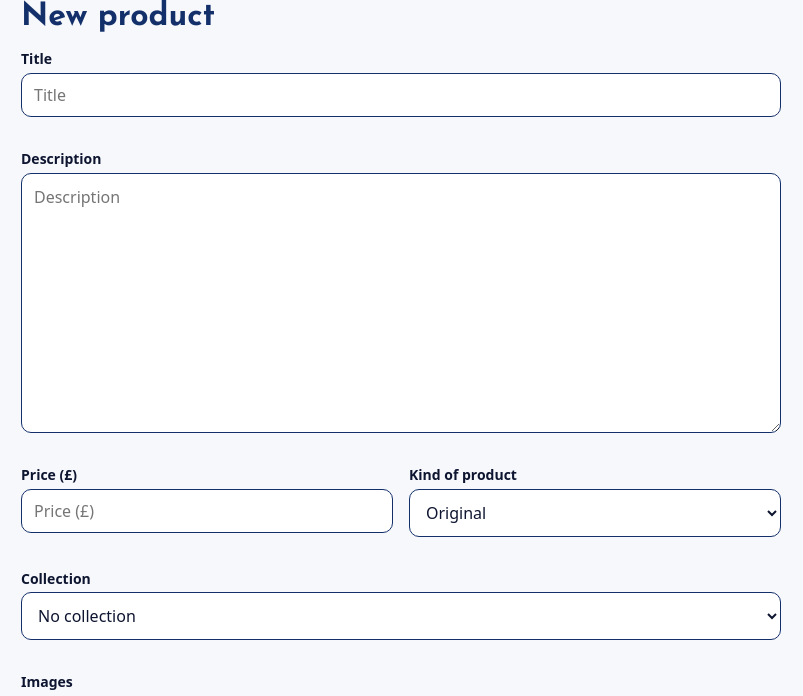
Test: the New product form › refuses a price of nothing or less, saving nothing
Type "A print" into the field labelled "Title".
click(401, 95); type("A print")  # box [21,73,781,117]
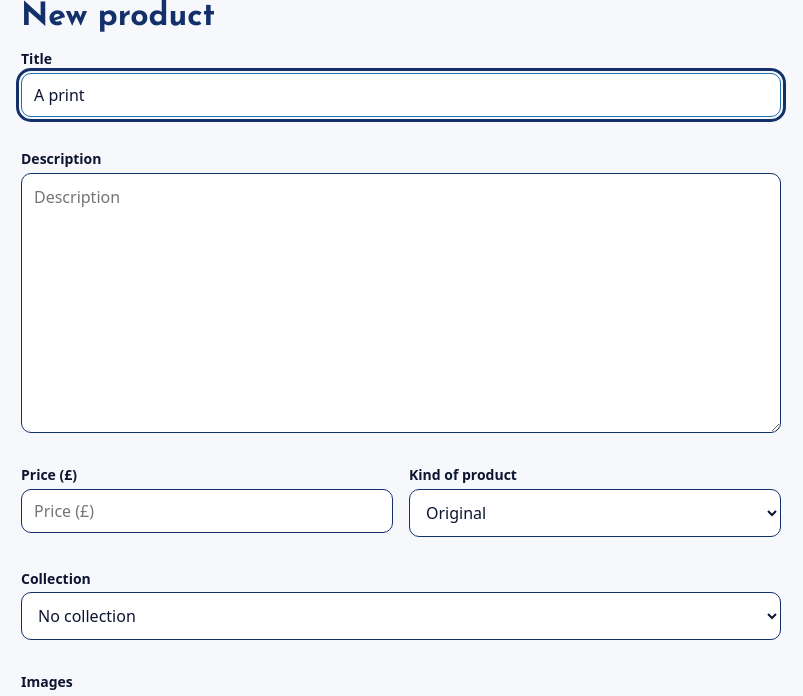
Type "Nice" into the text box labelled "Description".
click(401, 303); type("Nice")  # box [21,173,781,433]
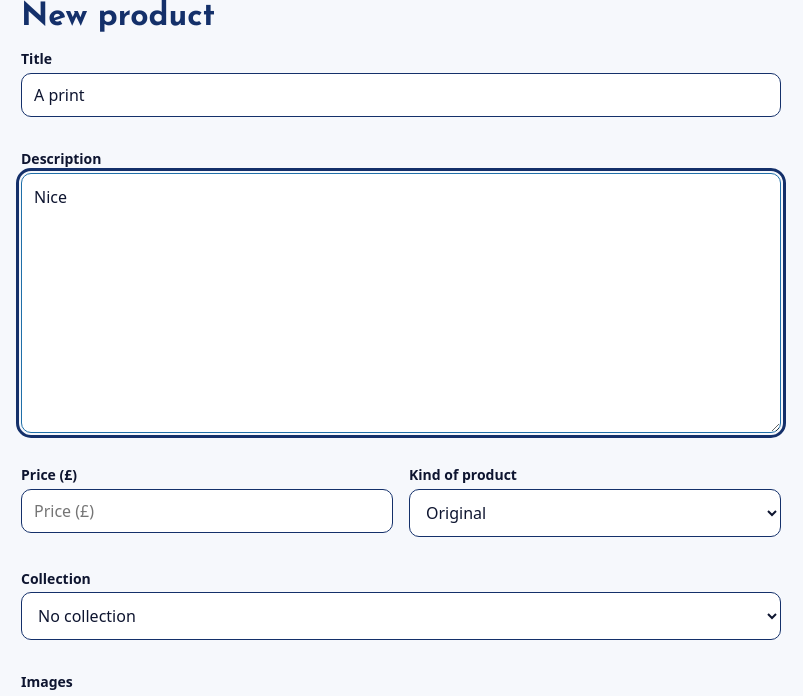
Type "0" into the number field labelled "Price (£)".
click(207, 511); type("0")  # box [21,489,393,533]
(page scrolled)
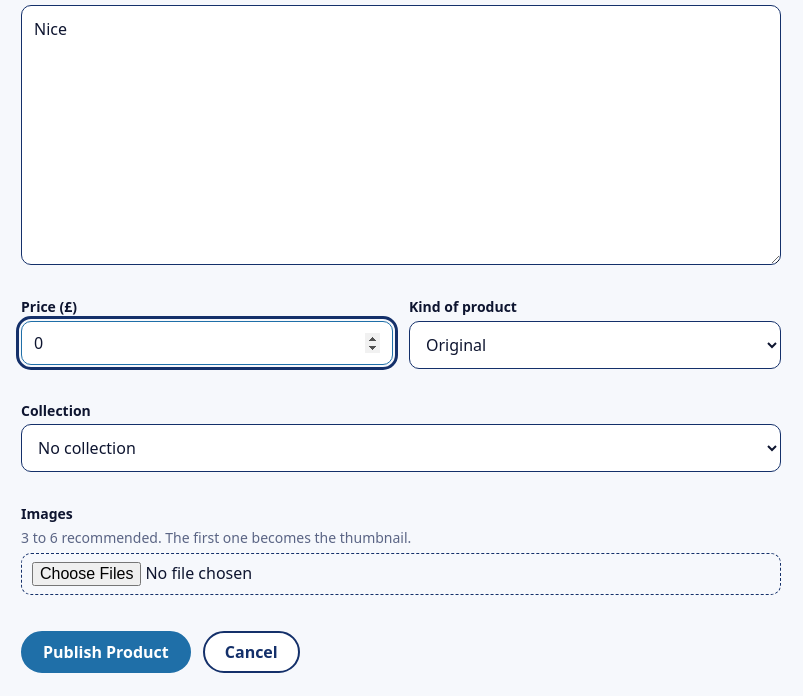
Click the button "Publish Product".
click(106, 652)  # box [21,631,191,673]
(page scrolled)
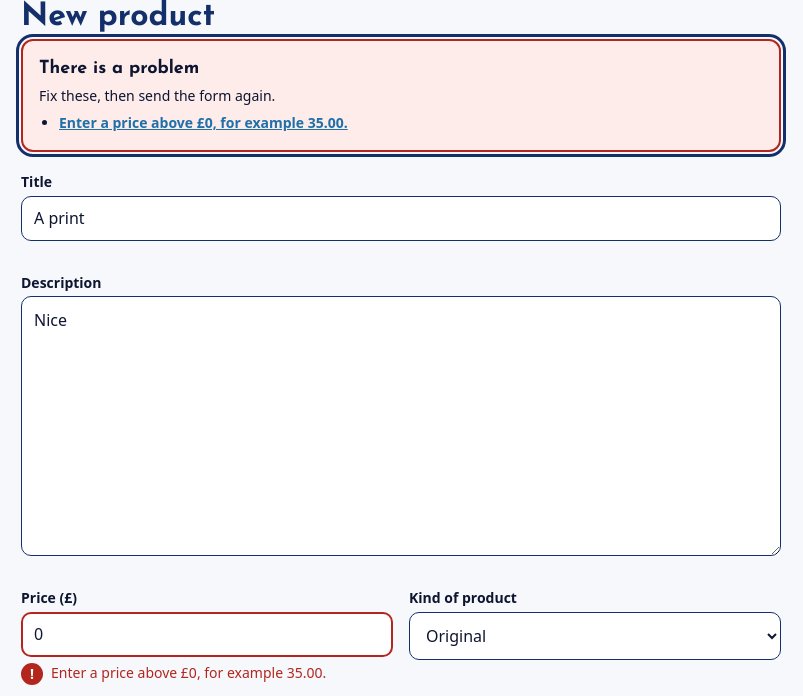
Expected: the element with id "npr-price-error" shows "Enter a price above £0, for example 35.00.", [51,663,326,682]
